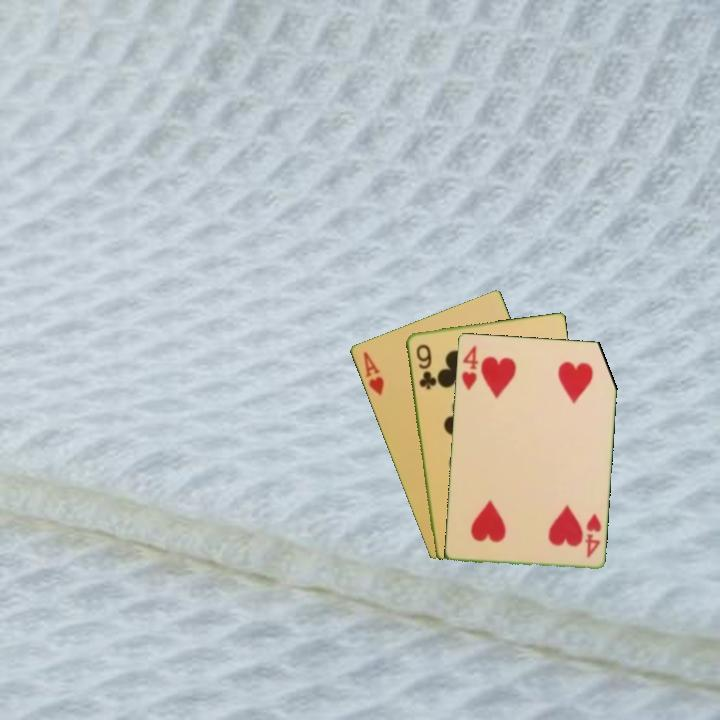4h: (458, 342, 481, 393), (581, 510, 604, 560)
9c: (412, 340, 437, 392)
Ah: (359, 348, 387, 399)
